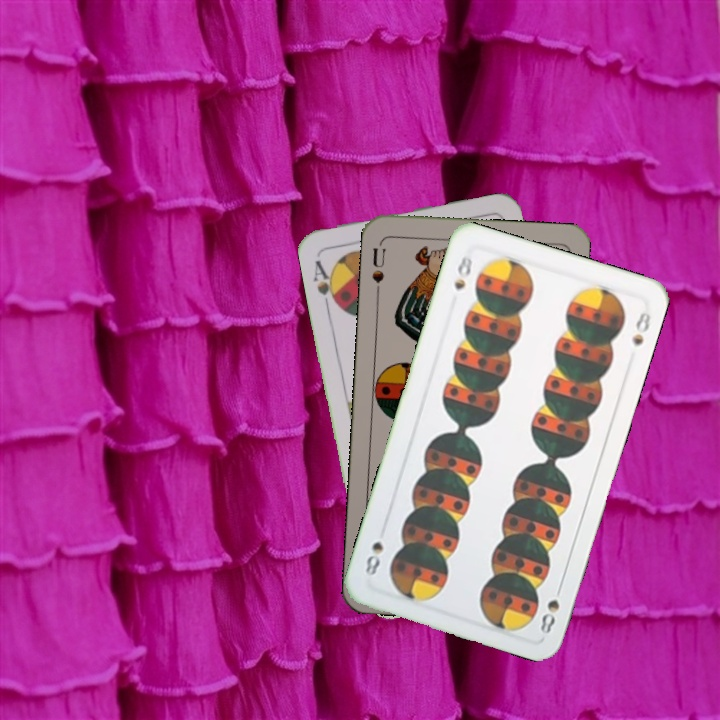S8: (536, 579, 565, 636), (450, 250, 475, 293)
SA: (309, 256, 342, 310)
SU: (368, 238, 388, 298)
